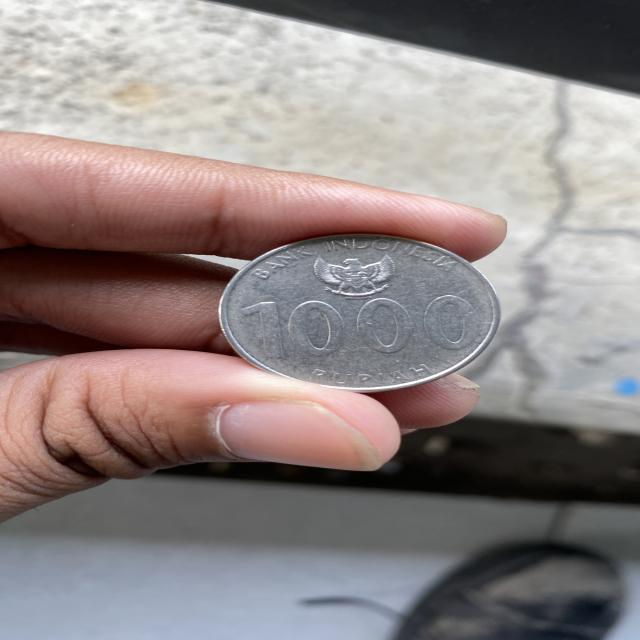1000-angklung: (220, 235, 500, 391)
